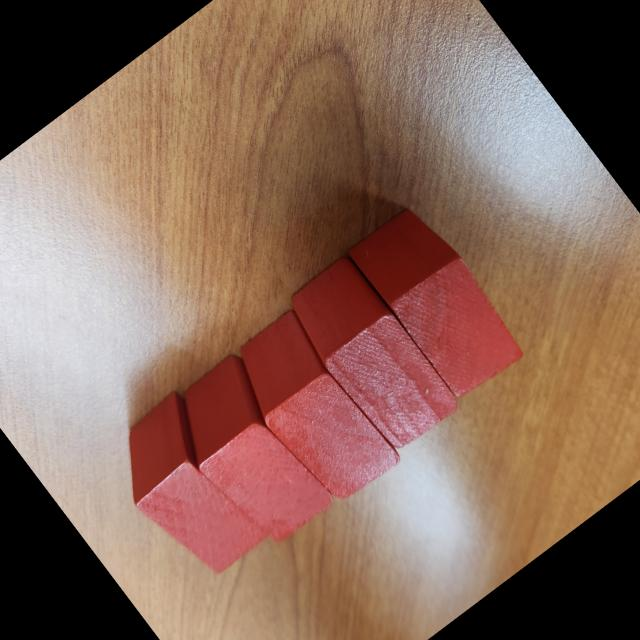red: (154, 349, 346, 556), (344, 197, 534, 406), (218, 306, 407, 514), (277, 250, 463, 458), (94, 387, 284, 590)
